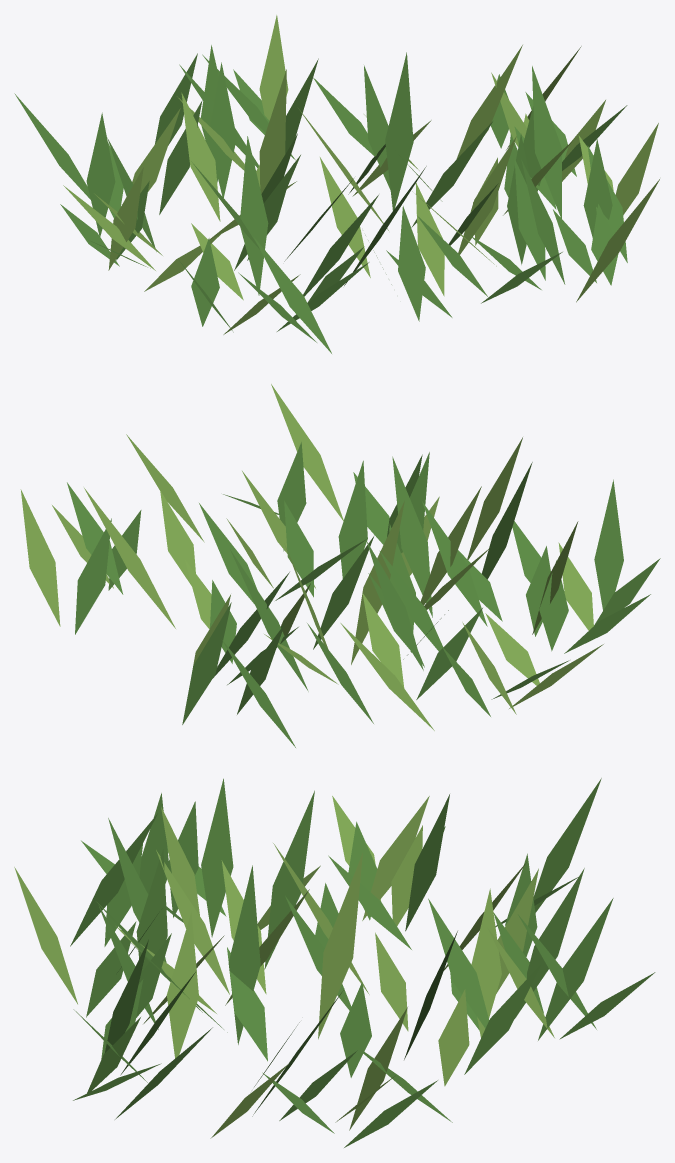
Rendered from crowfoot.glb.
The picture shows the model from 3 angles, top to bottom: view 1: azimuth 30°, elevation 25°; view 2: azimuth 150°, elevation 25°; view 3: azimuth 270°, elevation 25°; orthographic projection. The views are drawn at different scales.
Parts seen in each view (by area): view 1: crowfoot; view 2: crowfoot; view 3: crowfoot.
Boxes of the visible parts, x1,y1,x2,y2 form: crowfoot: (14,15,659,353); crowfoot: (20,384,660,747); crowfoot: (14,778,655,1147).
Bounding box in the file's own units: 1.37 × 0.3319 × 1.27.
